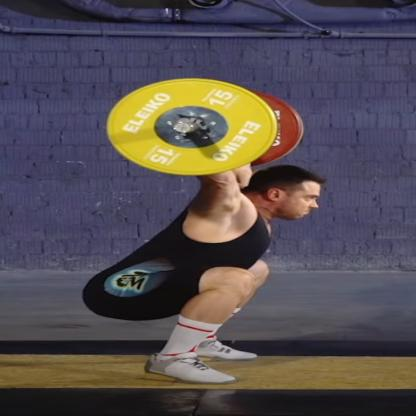barbell: (106, 78, 280, 177)
